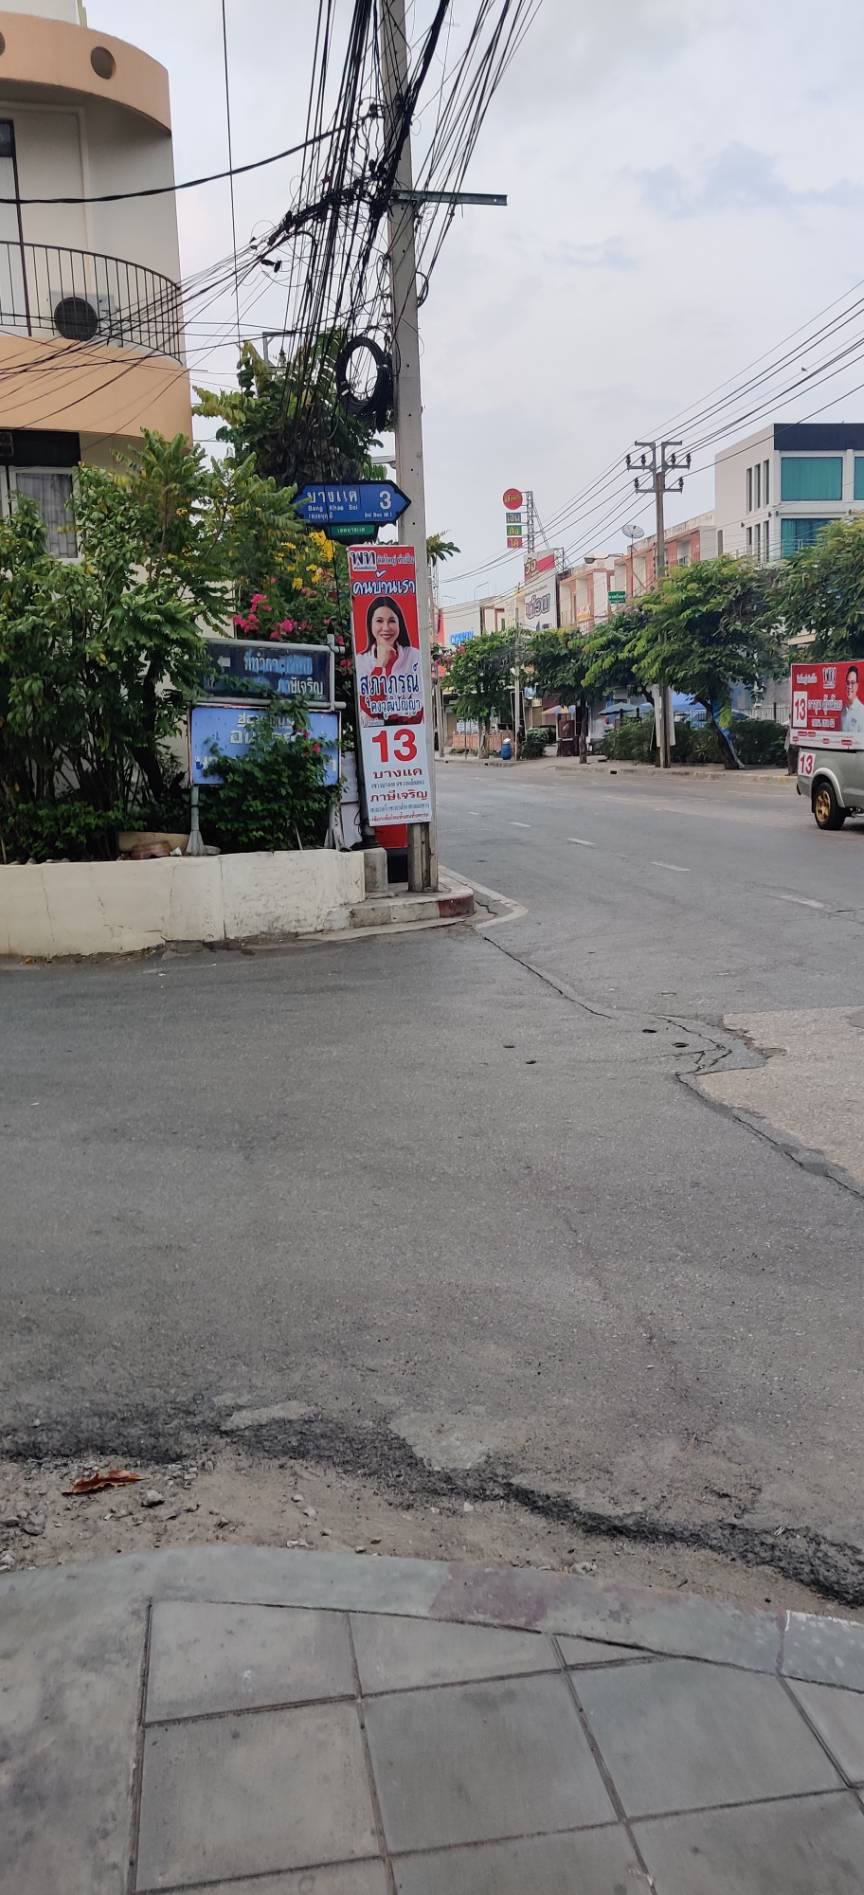Banner: (343, 537, 435, 833)
